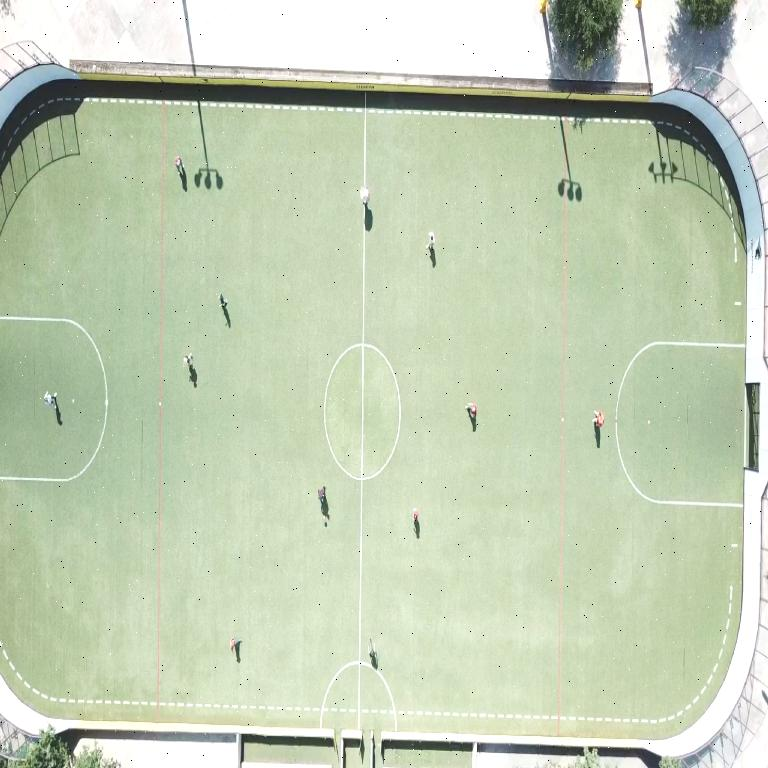AC: (615, 342, 744, 507), (0, 316, 108, 482)
B: (322, 515, 328, 526)
MC: (357, 207, 364, 728)
P: (318, 487, 328, 523), (465, 403, 476, 430), (369, 639, 377, 668), (360, 185, 370, 206), (44, 392, 57, 407), (175, 156, 185, 175), (593, 411, 604, 427), (426, 232, 435, 250), (183, 354, 193, 369), (219, 293, 226, 310), (230, 636, 236, 652), (413, 508, 418, 524)
